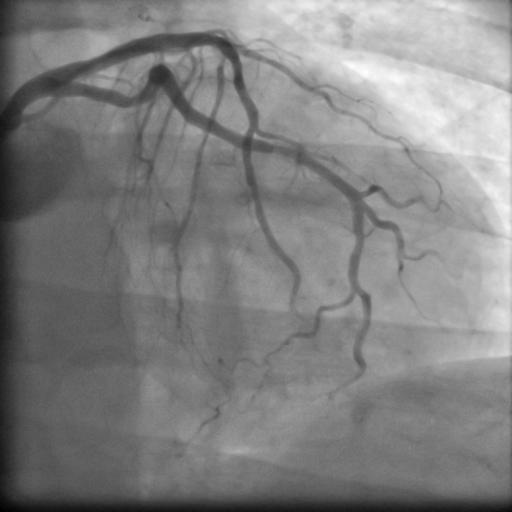Stenosis: (122, 90, 141, 110)
